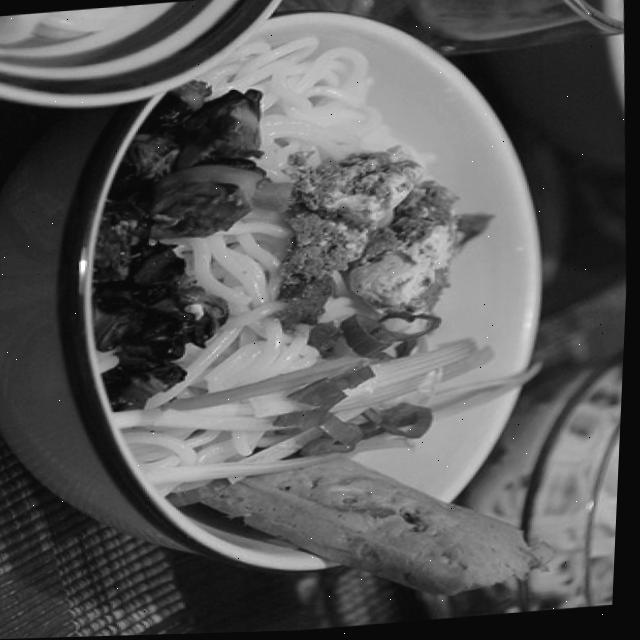面条主食: (0, 0, 579, 609)
